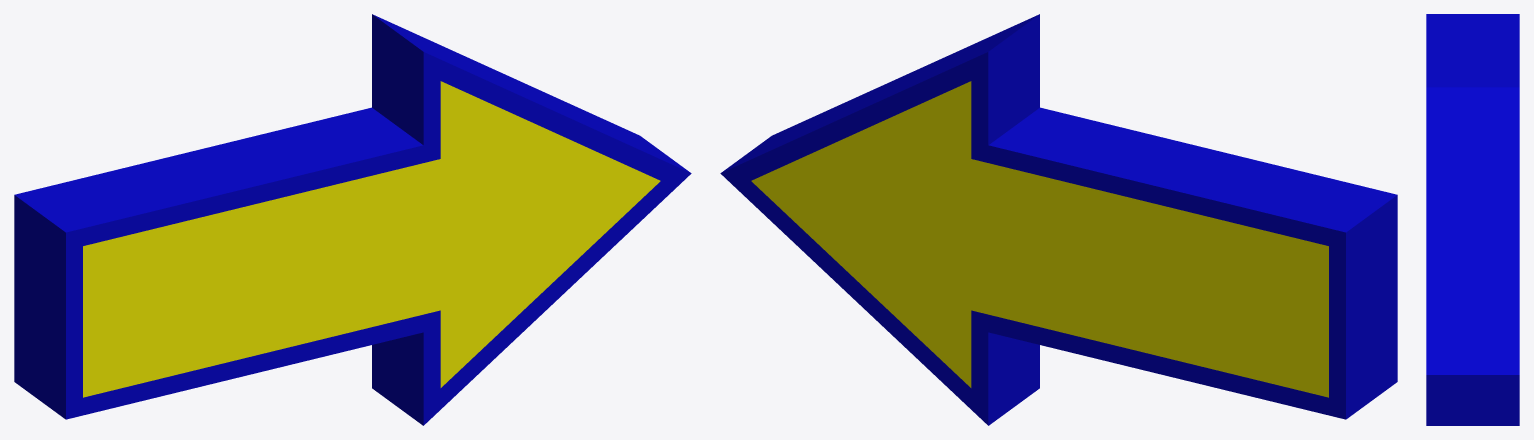
The model's file is richting pijl.fbx.
3 renders of one model, left to right at view 1: azimuth 30°, elevation 25°; view 2: azimuth 150°, elevation 25°; view 3: azimuth 270°, elevation 25°, orthographic. The views are drawn at different scales.
Visible parts, largest first — view 1: Cube; view 2: Cube; view 3: Cube.
Boxes of the visible parts, x1,y1,x2,y2 form: Cube: [14, 14, 691, 425]; Cube: [720, 14, 1397, 425]; Cube: [1426, 14, 1519, 425].
Size of the model in its own units: 2 by 1.14 by 0.2858.
